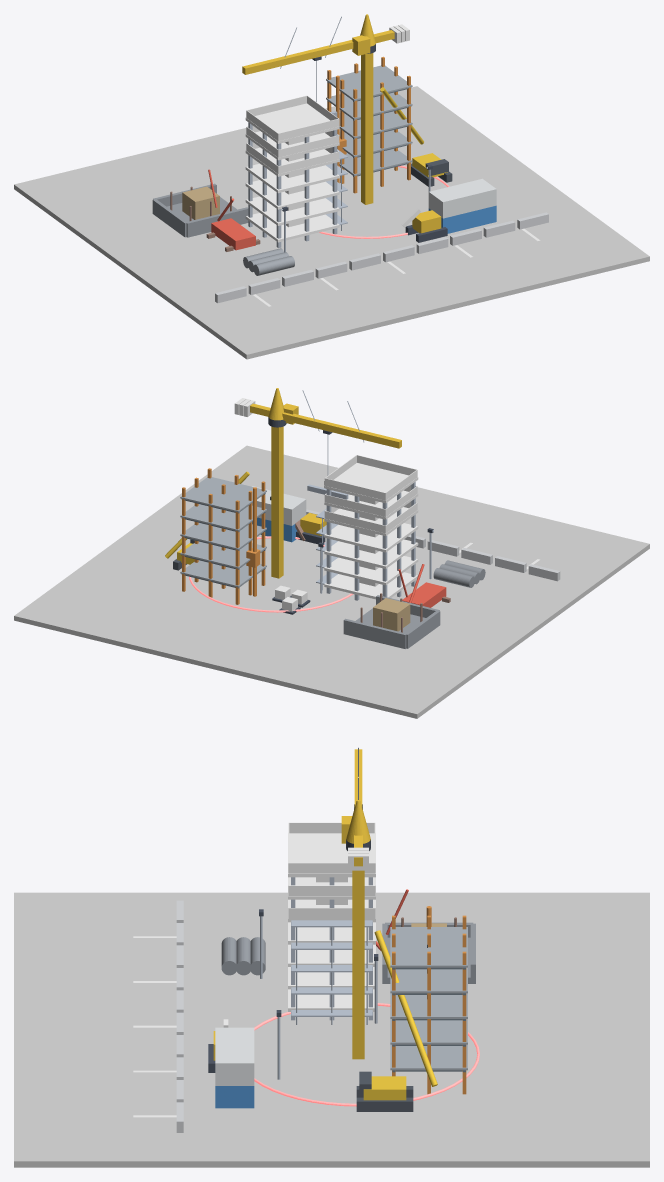
File: construction_site.glb
The picture shows the model from 3 angles, top to bottom: view 1: azimuth 30°, elevation 25°; view 2: azimuth 150°, elevation 25°; view 3: azimuth 270°, elevation 25°; orthographic projection. The views are drawn at different scales.
Parts seen in each view (by area): view 1: site_ground_foundation, crane_mast_lattice, conex_office_upper, tower_slab_lvl_6, bld_b_deck_lvl_4, tower_slab_lvl_3, tower_slab_lvl_2, tower_slab_lvl_0, tower_slab_lvl_1, site_crane_jib, bld_c_formwork_core, truck_pump_chassis (+14 smaller); view 2: site_ground_foundation, crane_mast_lattice, bld_b_deck_lvl_4, tower_slab_lvl_6, tower_slab_lvl_3, tower_slab_lvl_2, tower_slab_lvl_1, site_crane_jib, bld_b_deck_lvl_2, bld_b_deck_lvl_3, tower_slab_lvl_0, bld_b_deck_lvl_0 (+14 smaller); view 3: site_ground_foundation, bld_b_deck_lvl_4, crane_mast_lattice, conex_office_upper, tower_slab_lvl_6, bld_b_deck_lvl_3, bld_b_deck_lvl_0, bld_b_deck_lvl_1, bld_b_deck_lvl_2, tower_slab_lvl_3, tower_slab_lvl_0, tower_slab_lvl_1 (+14 smaller).
Boxes of the visible parts, x1=… form: site_ground_foundation: x1=14, y1=86, x2=649, y2=359; crane_mast_lattice: x1=361, y1=53, x2=373, y2=204; conex_office_upper: x1=428, y1=178, x2=496, y2=218; tower_slab_lvl_6: x1=245, y1=103, x2=339, y2=143; bld_b_deck_lvl_4: x1=326, y1=65, x2=412, y2=100; tower_slab_lvl_3: x1=245, y1=163, x2=339, y2=193; tower_slab_lvl_2: x1=245, y1=180, x2=339, y2=209; tower_slab_lvl_0: x1=245, y1=213, x2=339, y2=242; tower_slab_lvl_1: x1=245, y1=196, x2=339, y2=225; site_crane_jib: x1=242, y1=40, x2=353, y2=74; bld_c_formwork_core: x1=182, y1=186, x2=219, y2=219; truck_pump_chassis: x1=211, y1=218, x2=255, y2=250; site_ground_foundation: x1=14, y1=445, x2=649, y2=718; crane_mast_lattice: x1=271, y1=426, x2=283, y2=578; bld_b_deck_lvl_4: x1=180, y1=477, x2=266, y2=512; tower_slab_lvl_6: x1=324, y1=463, x2=418, y2=503; tower_slab_lvl_3: x1=324, y1=523, x2=418, y2=552; tower_slab_lvl_2: x1=324, y1=539, x2=418, y2=568; tower_slab_lvl_1: x1=324, y1=556, x2=418, y2=585; site_crane_jib: x1=282, y1=412, x2=401, y2=448; bld_b_deck_lvl_2: x1=180, y1=523, x2=266, y2=549; bld_b_deck_lvl_3: x1=180, y1=504, x2=266, y2=531; tower_slab_lvl_0: x1=324, y1=572, x2=417, y2=599; bld_b_deck_lvl_0: x1=180, y1=560, x2=266, y2=587; site_ground_foundation: x1=14, y1=892, x2=649, y2=1167; bld_b_deck_lvl_4: x1=390, y1=927, x2=467, y2=967; crane_mast_lattice: x1=352, y1=870, x2=364, y2=1059; conex_office_upper: x1=215, y1=1027, x2=254, y2=1085; tower_slab_lvl_6: x1=288, y1=833, x2=375, y2=877; bld_b_deck_lvl_3: x1=390, y1=967, x2=467, y2=993; bld_b_deck_lvl_0: x1=390, y1=1044, x2=467, y2=1070; bld_b_deck_lvl_1: x1=390, y1=1019, x2=467, y2=1044; bld_b_deck_lvl_2: x1=390, y1=993, x2=467, y2=1018; tower_slab_lvl_3: x1=288, y1=922, x2=375, y2=944; tower_slab_lvl_0: x1=288, y1=989, x2=374, y2=1011; tower_slab_lvl_1: x1=288, y1=967, x2=374, y2=989.
Bounding box in the file's own units: 36 × 17.1 × 36.
